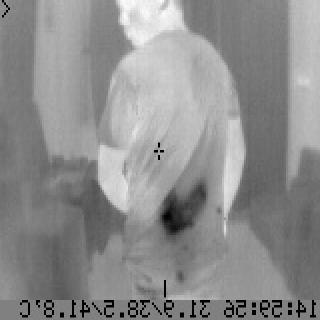Gun: (158, 180, 208, 285)
